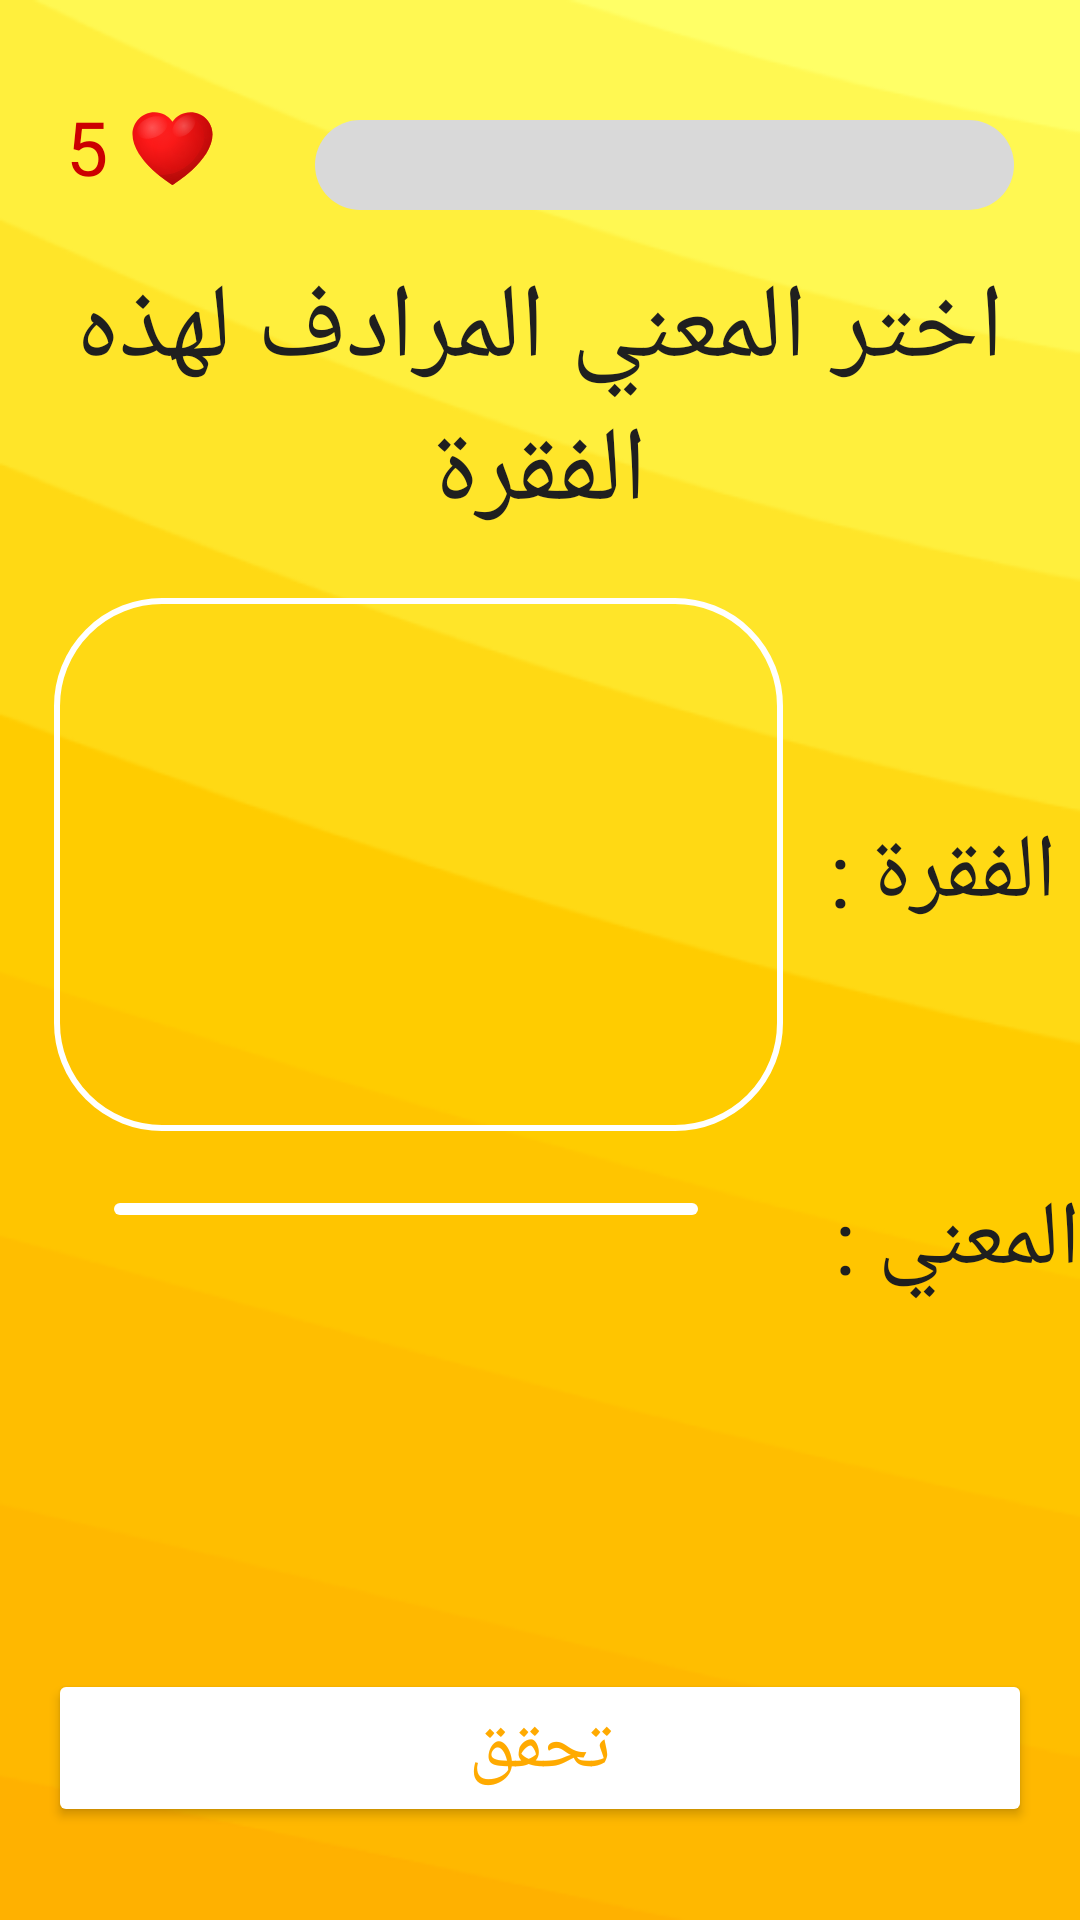

Where to tap for icons on this 1080×1920 app screen, as point (x, y):
heart: point (172, 148)
